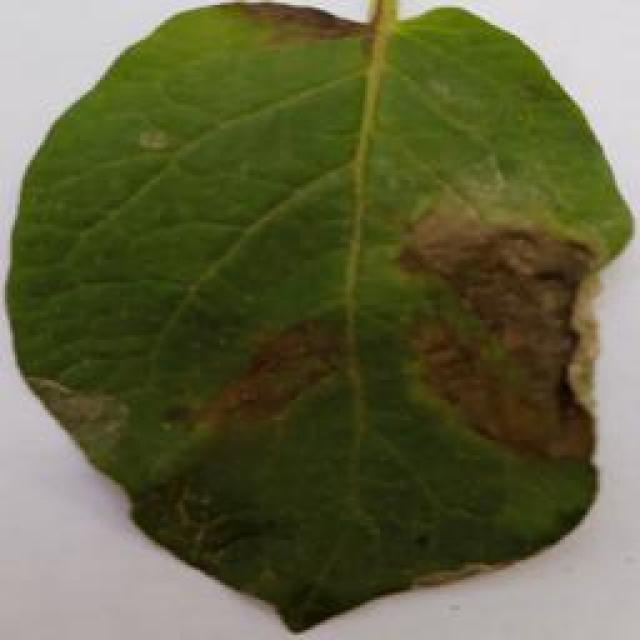Potato_Late_Blight: (5, 22, 630, 640)
